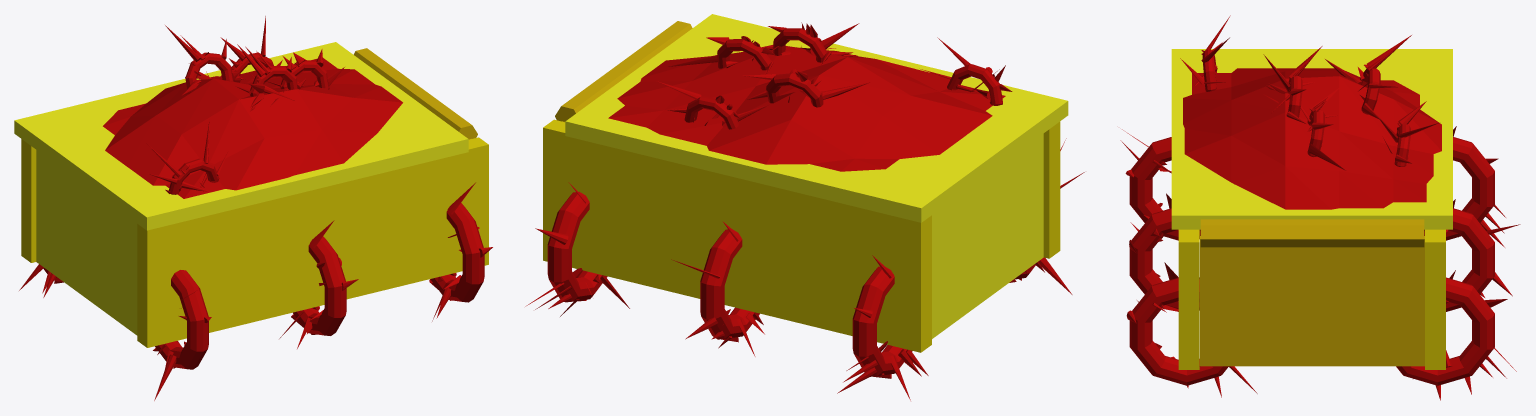
File: Spawnert1 rocket.gltf
The picture shows the model from 3 angles, left to right: view 1: azimuth 30°, elevation 25°; view 2: azimuth 150°, elevation 25°; view 3: azimuth 270°, elevation 25°; orthographic projection. The views are drawn at different scales.
Visible parts, largest first — view 1: Spawnert1-BodyMain, Spawnert1-Infections, Spawnert1-BodyMain3 (×2), Door; view 2: Spawnert1-Infections, Spawnert1-BodyMain, Spawnert1-BodyMain3 (×2), Door; view 3: Spawnert1-Infections, Body.2, Spawnert1-BodyMain3, Door, Spawnert1-BodyMain.
Part boxes in pixels (x1=…): Spawnert1-BodyMain: x1=21, y1=137, x2=488, y2=347; Spawnert1-Infections: x1=19, y1=16, x2=492, y2=400; Spawnert1-BodyMain3 (×2): x1=14, y1=42, x2=468, y2=335; Door: x1=353, y1=48, x2=477, y2=139; Spawnert1-Infections: x1=525, y1=22, x2=1084, y2=400; Spawnert1-BodyMain: x1=543, y1=119, x2=1060, y2=352; Spawnert1-BodyMain3 (×2): x1=565, y1=14, x2=1068, y2=338; Door: x1=555, y1=21, x2=692, y2=121; Spawnert1-Infections: x1=1120, y1=15, x2=1520, y2=400; Body.2: x1=1200, y1=236, x2=1424, y2=366; Spawnert1-BodyMain3: x1=1171, y1=49, x2=1452, y2=229; Door: x1=1200, y1=219, x2=1424, y2=247; Spawnert1-BodyMain: x1=1178, y1=229, x2=1445, y2=369.
Size of the model in its own units: 15.03 by 10.97 by 14.4.
